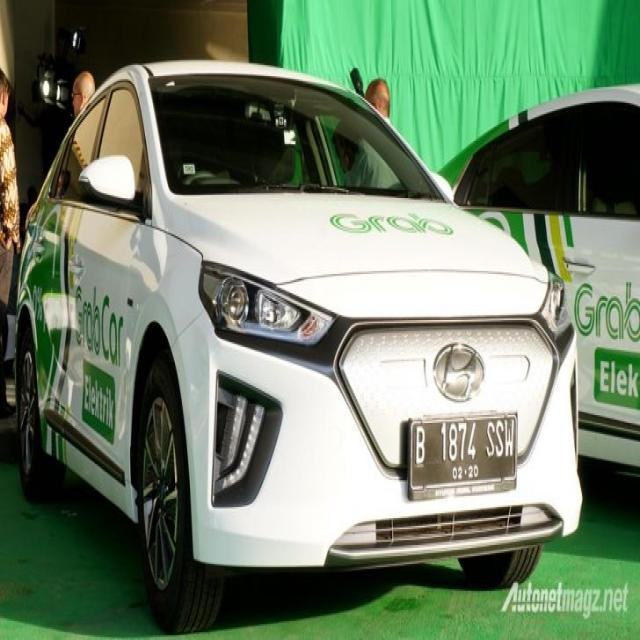plate: (410, 418, 516, 478)
